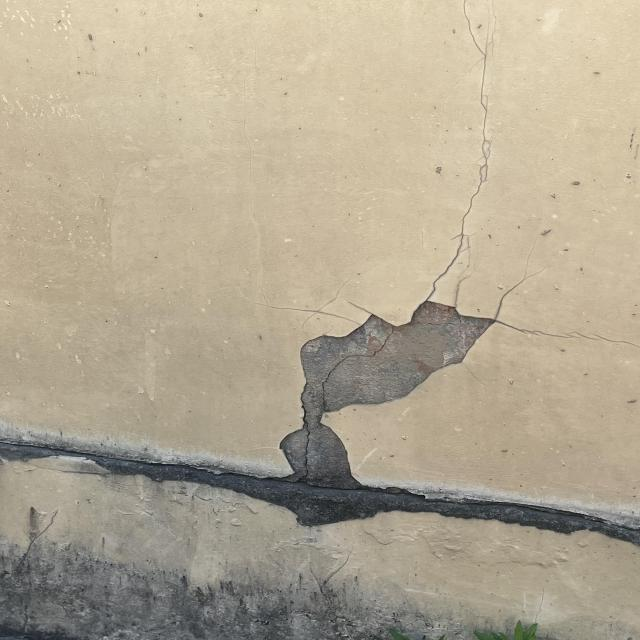crack: (423, 4, 515, 306)
spalling: (260, 278, 518, 537)
